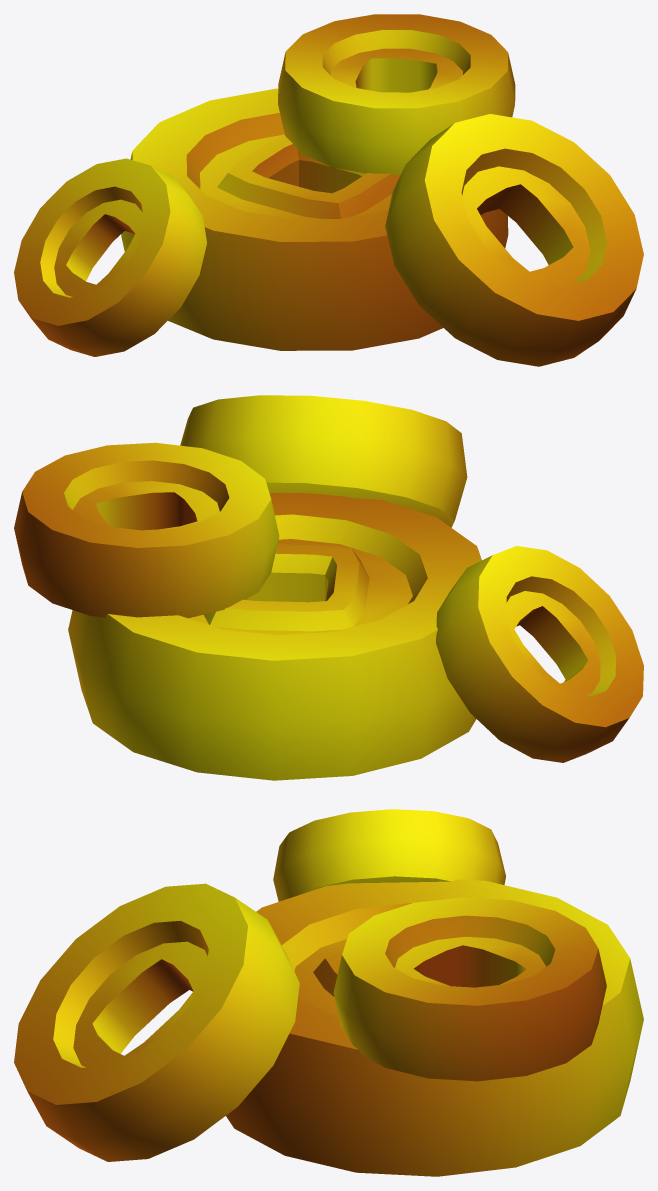
The model's file is Gold_Hole_Coin_04.glb.
3 views of the same model, one above another, from view 1: azimuth 30°, elevation 25°; view 2: azimuth 150°, elevation 25°; view 3: azimuth 270°, elevation 25° (orthographic). The views are drawn at different scales.
Parts seen in each view (by area): view 1: Gold_Hole_Coin_04; view 2: Gold_Hole_Coin_04; view 3: Gold_Hole_Coin_04.
Boxes of the visible parts, x1=… form: Gold_Hole_Coin_04: x1=14, y1=14, x2=643, y2=366; Gold_Hole_Coin_04: x1=14, y1=395, x2=643, y2=780; Gold_Hole_Coin_04: x1=14, y1=809, x2=643, y2=1176.
Bounding box in the file's own units: 0.5403 × 0.203 × 0.515.
Materials: 1 (1 with a texture image).
